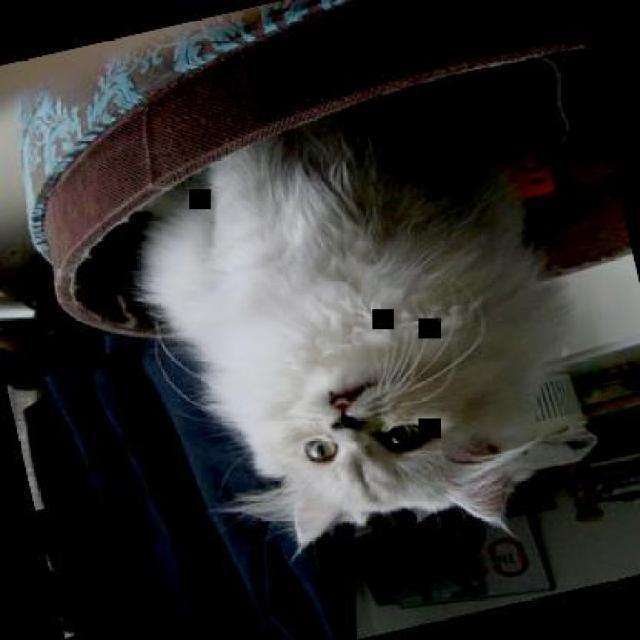cat: (125, 82, 608, 588)
